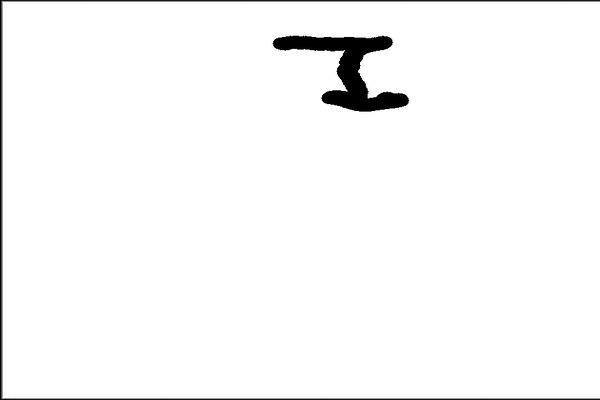i: (267, 16, 411, 122)
